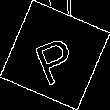P_N: (28, 25, 82, 85)
